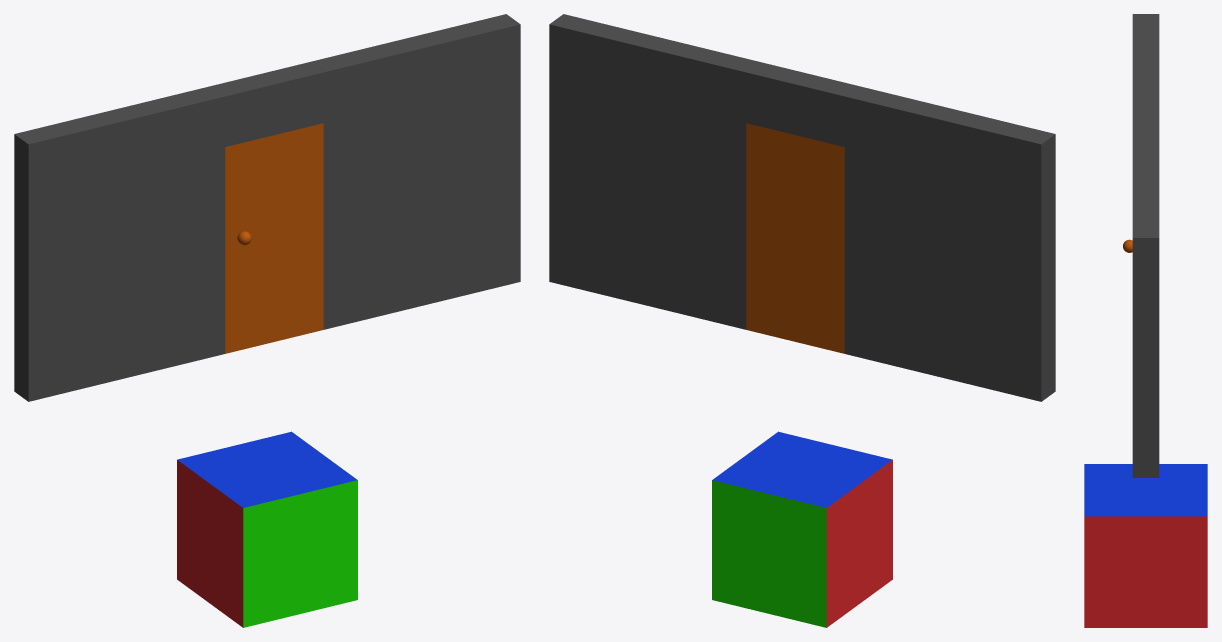
The model's file is testWallDoor3.glb.
The picture shows the model from 3 angles, left to right: view 1: azimuth 30°, elevation 25°; view 2: azimuth 150°, elevation 25°; view 3: azimuth 270°, elevation 25°; orthographic projection. The views are drawn at different scales.
Parts seen in each view (by area): view 1: wall, Cube, door; view 2: wall, Cube, door; view 3: Cube, wall.
Boxes of the visible parts, x1=… form: wall: x1=14, y1=14, x2=520, y2=401; Cube: x1=177, y1=431, x2=357, y2=627; door: x1=225, y1=123, x2=323, y2=353; wall: x1=549, y1=14, x2=1055, y2=401; Cube: x1=712, y1=431, x2=892, y2=627; door: x1=746, y1=123, x2=844, y2=353; Cube: x1=1084, y1=464, x2=1207, y2=627; wall: x1=1132, y1=14, x2=1159, y2=477.
Size of the model in its own units: 4 by 3.97 by 0.9315.
